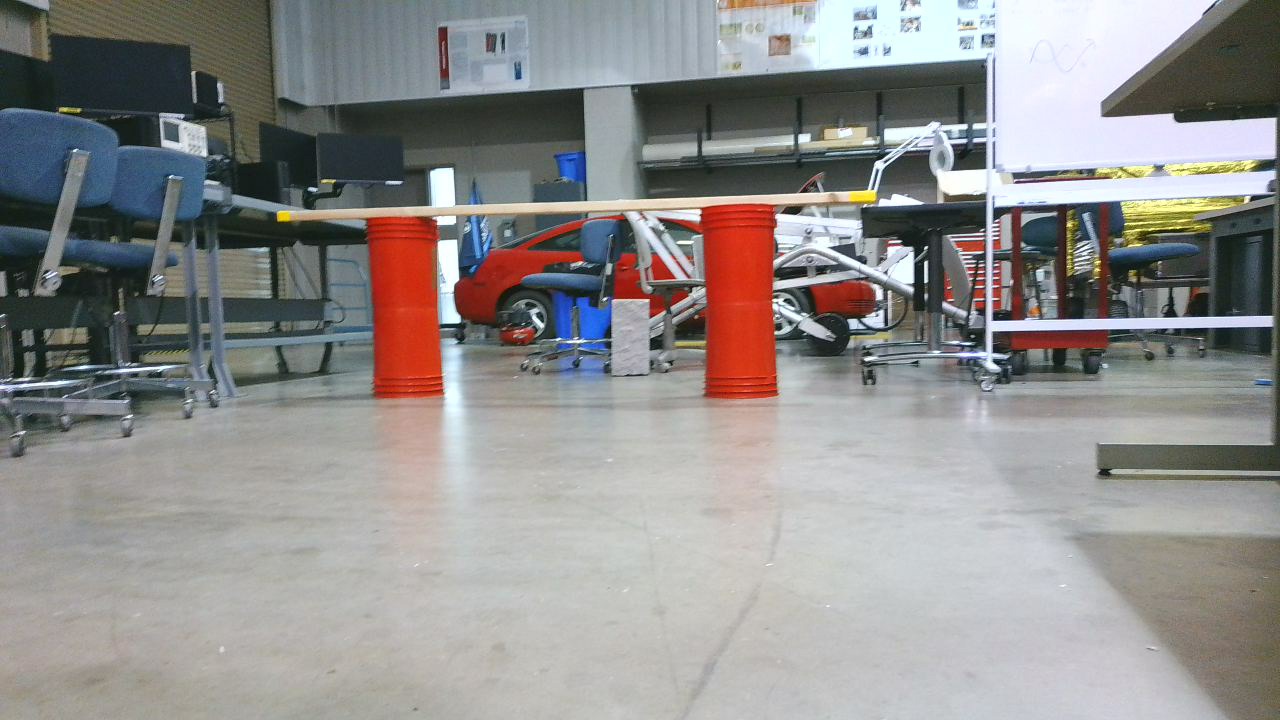red_bucket_arch: (371, 204, 787, 408)
